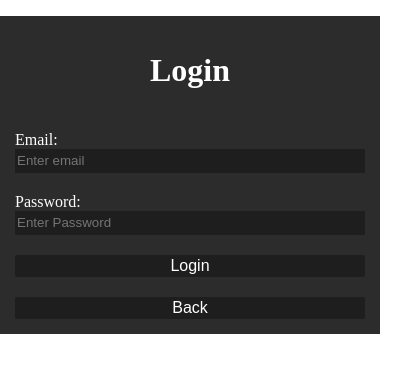
Scenario: login component › Error shows if login api fails
In the field labelled "Email": coordinates (190, 161) [15, 149, 365, 173], type "test"
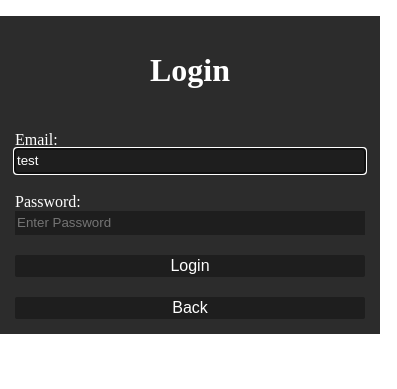
In the password field labelled "Password:": coordinates (190, 223) [15, 211, 365, 235], type "test"
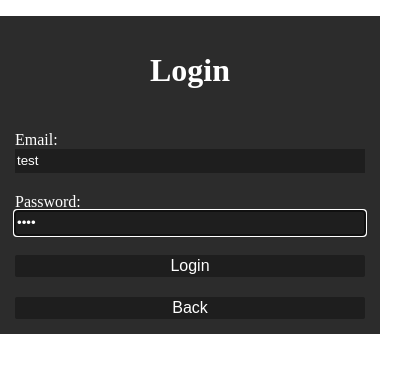
Click the button "Login": coordinates (190, 266) [15, 255, 365, 277]
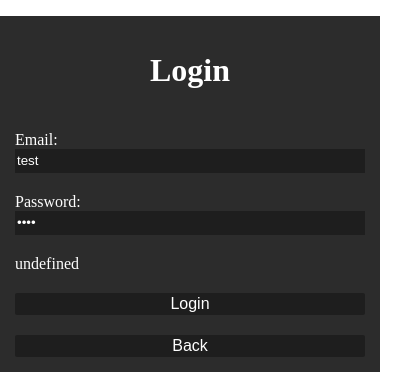
Expected: the text "undefined" is shown, [15, 255, 79, 272]
